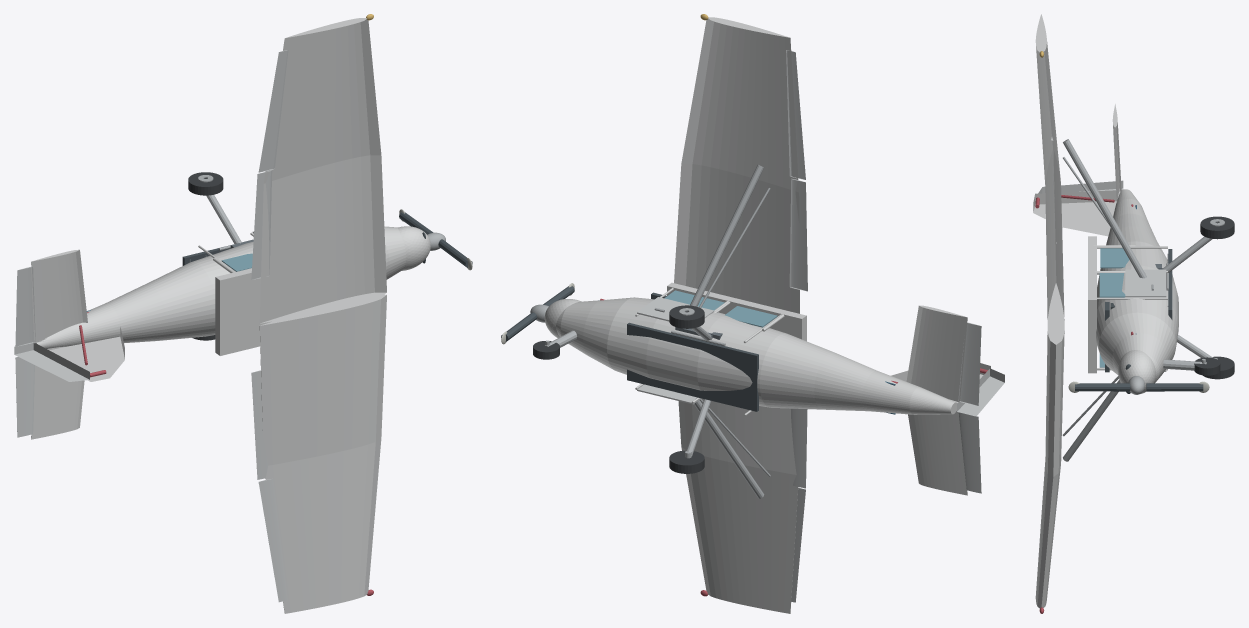
File: Cessna_172_Editable.glb
3 renders of one model, left to right at view 1: azimuth 30°, elevation 25°; view 2: azimuth 150°, elevation 25°; view 3: azimuth 270°, elevation 25°, orthographic. The views are drawn at different scales.
Visible parts, largest first — view 1: Main high wing • left, Main high wing • right, Fuselage • sculpted aluminium shell, Horizontal stabilizer • right, Cabin roof • removable panel, Horizontal stabilizer • left, Vertical stabilizer, Aileron • right, Aileron • left, Elevator • right, Rudder • hinged, Elevator • left (+4 smaller); view 2: Main high wing • right, Fuselage • sculpted aluminium shell, Main high wing • left, Horizontal stabilizer • right, Horizontal stabilizer • left, Cockpit floor, Flap • right, Cabin roof • removable panel, Elevator • right, Elevator • left, Wing strut • right, Aileron • right (+7 smaller); view 3: Fuselage • sculpted aluminium shell, Main high wing • right, Main high wing • left, Vertical stabilizer, Cabin roof • removable panel, Wing strut • right, Cabin door • right, Engine cowling, Wing strut • left, Main wheel right, Front side window right, Rear side window right (+8 smaller).
Part boxes in pixels (left/top/right/bottom): Main high wing • left: left=259, top=294, right=386, bottom=613; Main high wing • right: left=259, top=18, right=386, bottom=323; Fuselage • sculpted aluminium shell: left=36, top=226, right=406, bottom=348; Horizontal stabilizer • right: left=31, top=249, right=87, bottom=343; Cabin roof • removable panel: left=215, top=268, right=271, bottom=355; Horizontal stabilizer • left: left=31, top=346, right=84, bottom=439; Vertical stabilizer: left=39, top=327, right=124, bottom=381; Aileron • right: left=258, top=50, right=288, bottom=172; Aileron • left: left=258, top=478, right=287, bottom=602; Elevator • right: left=15, top=266, right=35, bottom=346; Rudder • hinged: left=14, top=342, right=89, bottom=381; Elevator • left: left=15, top=357, right=34, bottom=437; Main high wing • right: left=674, top=17, right=799, bottom=313; Fuselage • sculpted aluminium shell: left=556, top=297, right=957, bottom=414; Main high wing • left: left=678, top=398, right=798, bottom=613; Horizontal stabilizer • right: left=906, top=305, right=967, bottom=402; Horizontal stabilizer • left: left=908, top=410, right=967, bottom=495; Cockpit floor: left=627, top=322, right=758, bottom=411; Flap • right: left=789, top=178, right=807, bottom=291; Cabin roof • removable panel: left=667, top=282, right=806, bottom=341; Elevator • right: left=958, top=322, right=981, bottom=405; Elevator • left: left=958, top=412, right=981, bottom=493; Wing strut • right: left=690, top=165, right=763, bottom=306; Aileron • right: left=786, top=50, right=805, bottom=179; Fuselage • sculpted aluminium shell: left=1096, top=189, right=1178, bottom=383; Main high wing • right: left=1035, top=14, right=1064, bottom=342; Main high wing • left: left=1035, top=328, right=1064, bottom=608; Vertical stabilizer: left=1033, top=190, right=1120, bottom=236; Cabin roof • removable panel: left=1088, top=236, right=1096, bottom=373; Wing strut • right: left=1063, top=139, right=1146, bottom=278; Cabin door • right: left=1125, top=269, right=1166, bottom=297; Engine cowling: left=1118, top=350, right=1155, bottom=393; Wing strut • left: left=1063, top=380, right=1120, bottom=461; Main wheel right: left=1200, top=216, right=1234, bottom=239; Front side window right: left=1099, top=273, right=1125, bottom=297; Rear side window right: left=1100, top=248, right=1129, bottom=268.
Size of the model in its own units: 8.62 by 10.91 by 3.54.
